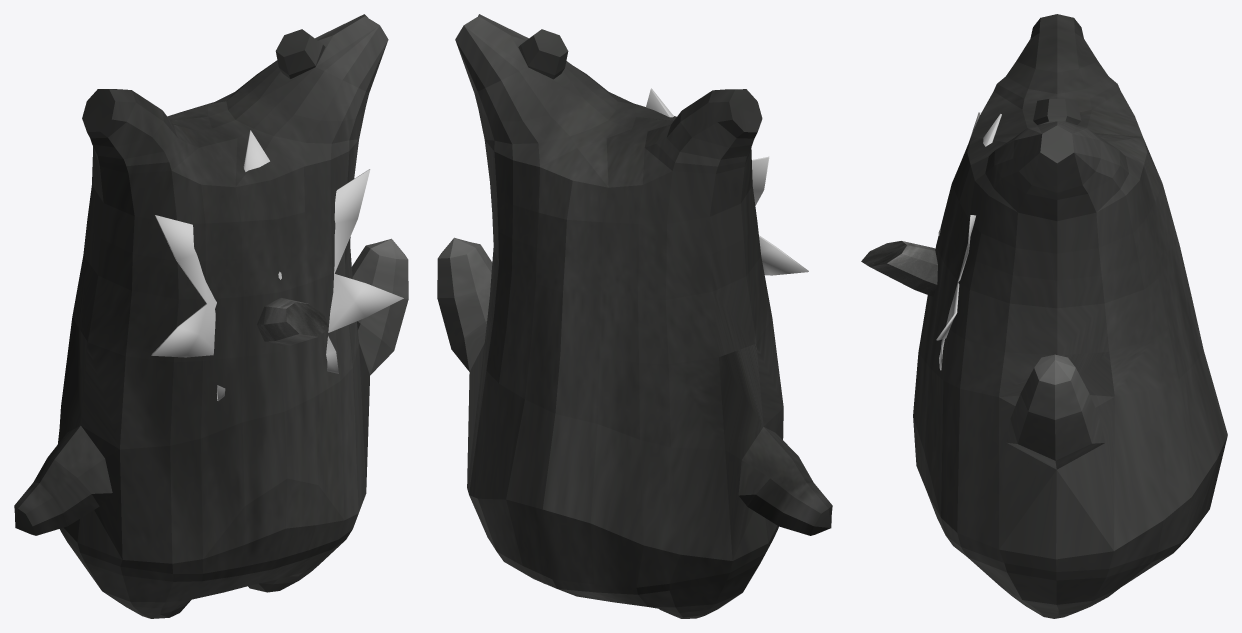
File: frame_0043.obj
The picture shows the model from 3 angles, left to right: view 1: azimuth 30°, elevation 25°; view 2: azimuth 150°, elevation 25°; view 3: azimuth 270°, elevation 25°; orthographic projection. The views are drawn at different scales.
Parts seen in each view (by area): view 1: korok, leaf, nose; view 2: korok, leaf; view 3: korok, nose, leaf.
Boxes of the visible parts, x1,y1,x2,y2 form: korok: (14, 14, 408, 618); leaf: (151, 130, 403, 400); nose: (257, 298, 328, 345); korok: (437, 14, 832, 618); leaf: (646, 88, 808, 275); korok: (913, 14, 1227, 618); nose: (861, 241, 937, 296); leaf: (936, 112, 1001, 370).
Bounding box in the file's own units: 1.63 × 2.19 × 1.36.
